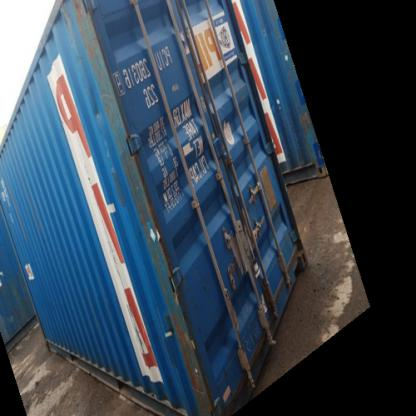Damage: (66, 3, 122, 105), (107, 106, 153, 202), (162, 292, 203, 399), (140, 196, 178, 289), (237, 291, 261, 343)
